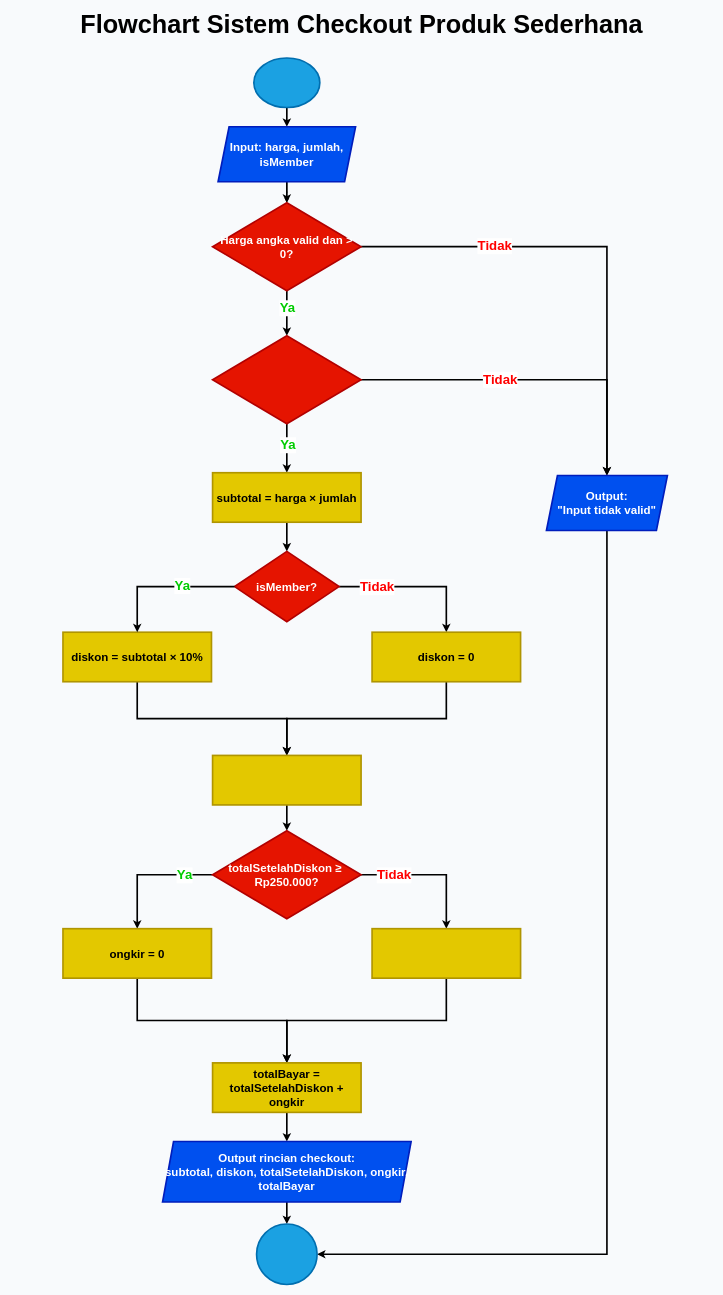
Image size: 723x1295. Some labels were removed from this diagram. The centre of each missing label's shape, as x and y in pixels:
Jumlah bilangan bulat dan > 0?: point (286, 379)
Mulai: point (286, 82)
ongkir = 15000: point (446, 953)
Selesai: point (286, 1254)
totalSetelahDiskon = subtotal - diskon: point (286, 779)
